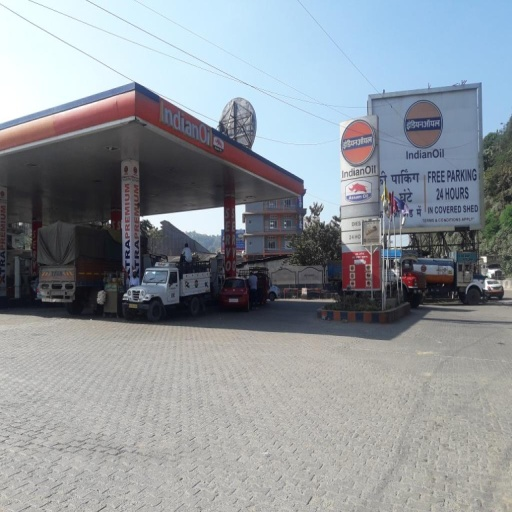roof: (1, 83, 303, 222)
